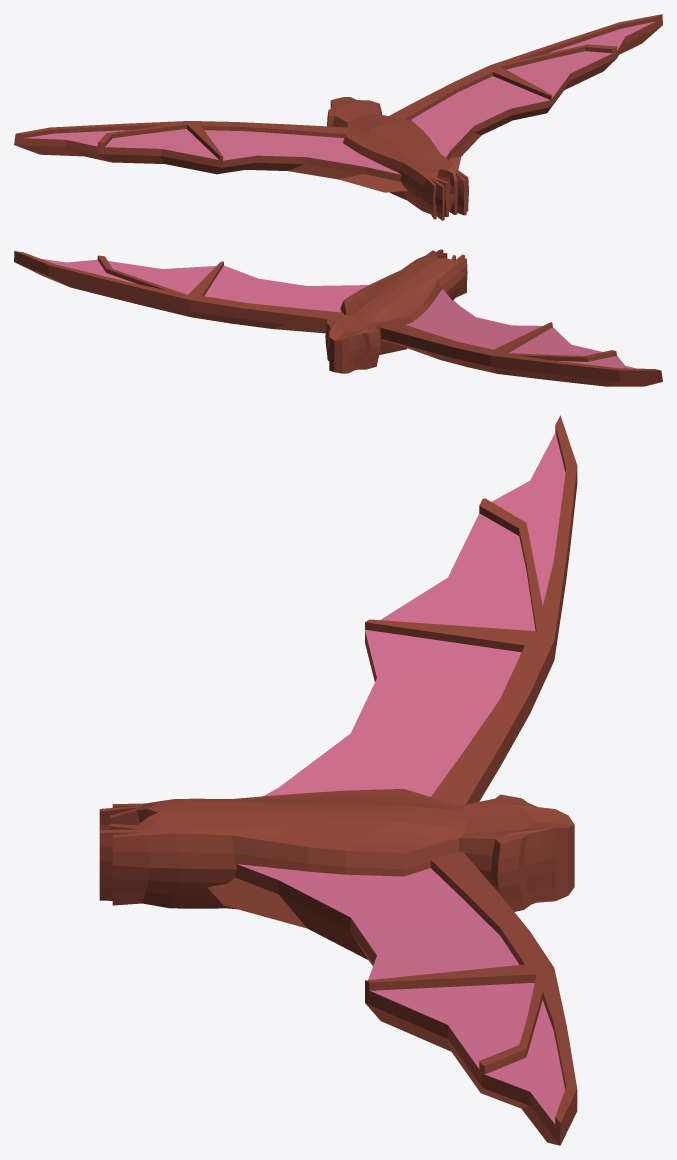
File: BatJoin.fbx
3 views of the same model, one above another, from view 1: azimuth 30°, elevation 25°; view 2: azimuth 150°, elevation 25°; view 3: azimuth 270°, elevation 25° (orthographic). The views are drawn at different scales.
Parts seen in each view (by area): view 1: R_Wing.001, L_Wing.001, Body.001; view 2: L_Wing.001, R_Wing.001, Body.001; view 3: R_Wing.001, L_Wing.001, Body.001.
Part boxes in pixels (x1,y1,x2,y2): R_Wing.001: (14, 121, 407, 192); L_Wing.001: (389, 14, 662, 169); Body.001: (327, 97, 468, 220); L_Wing.001: (14, 251, 368, 333); R_Wing.001: (380, 289, 662, 386); Body.001: (325, 249, 467, 373); R_Wing.001: (263, 415, 577, 805); L_Wing.001: (207, 851, 577, 1145); Body.001: (99, 789, 574, 911).
Size of the model in its own units: 2800 by 342 by 892.
